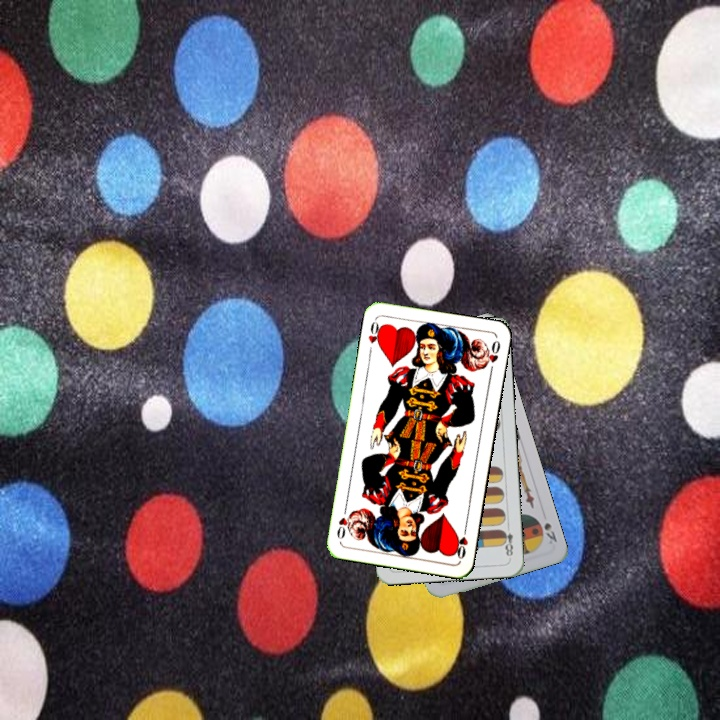E8: (498, 520, 516, 559)
HO: (450, 522, 470, 561), (364, 316, 385, 349)
SK: (533, 515, 560, 546)
